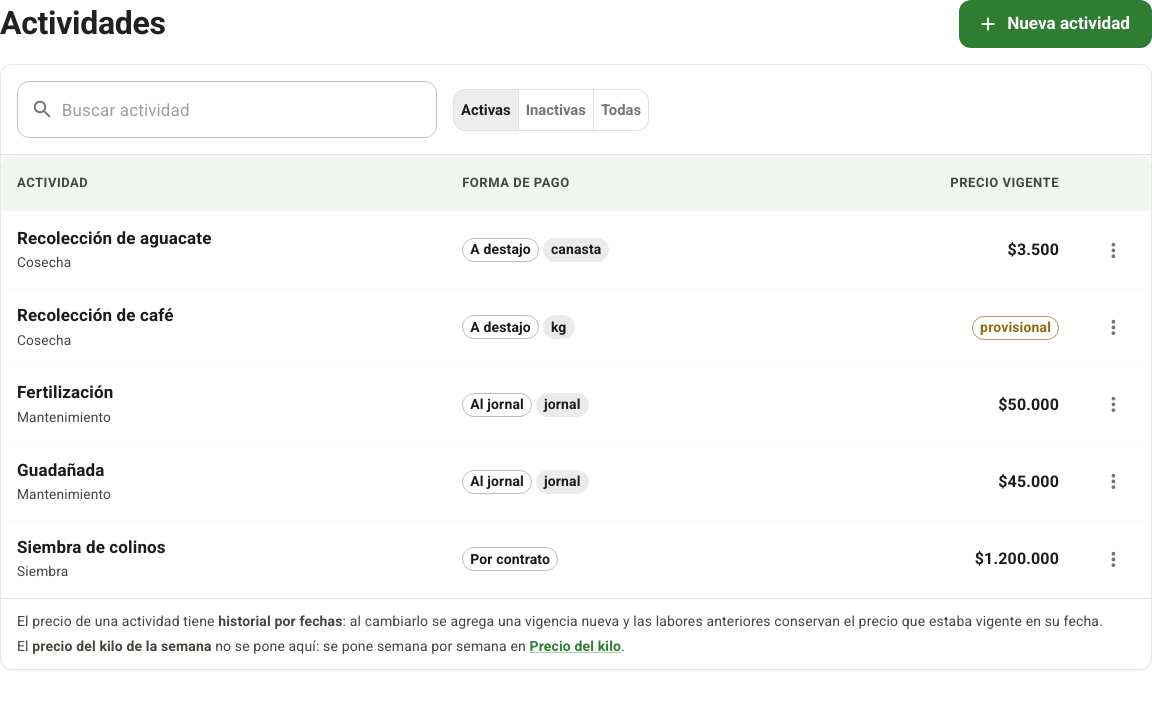
Test: the activities list › says why when the server refuses, and the note can be closed
Click the button named "Acciones de Recolección de café": coordinates (1113, 327) [1091, 305, 1135, 349]
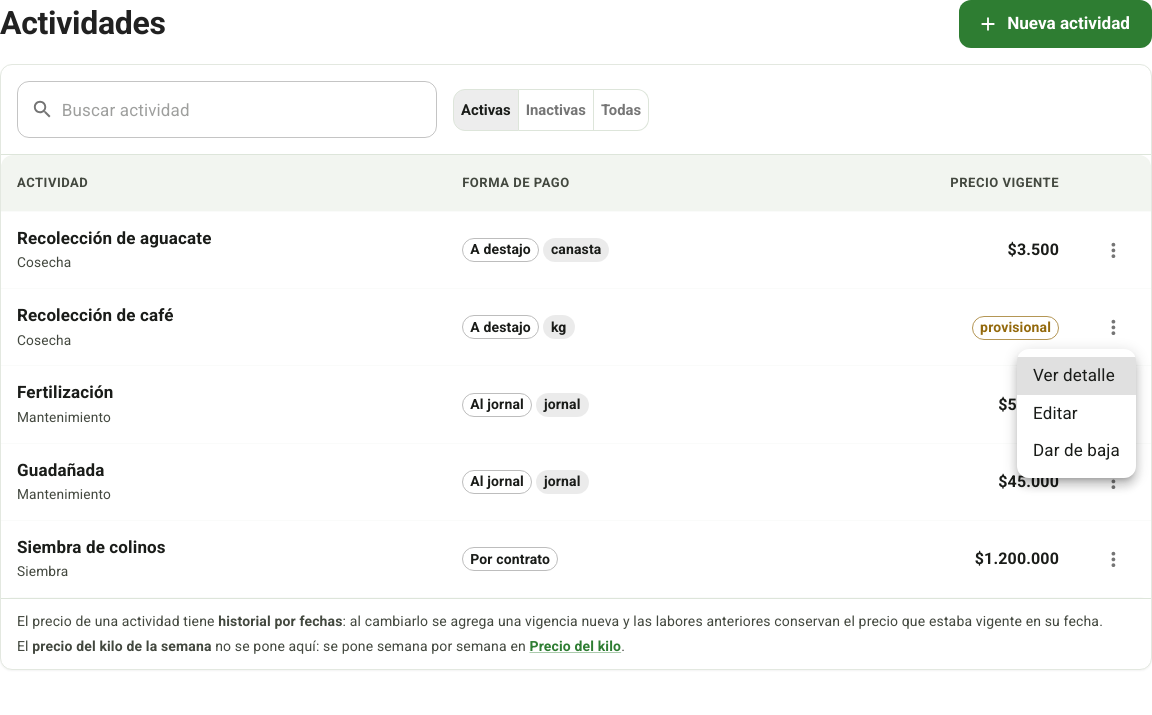
Click the menu item "Dar de baja": coordinates (1076, 450) [1033, 440, 1120, 460]
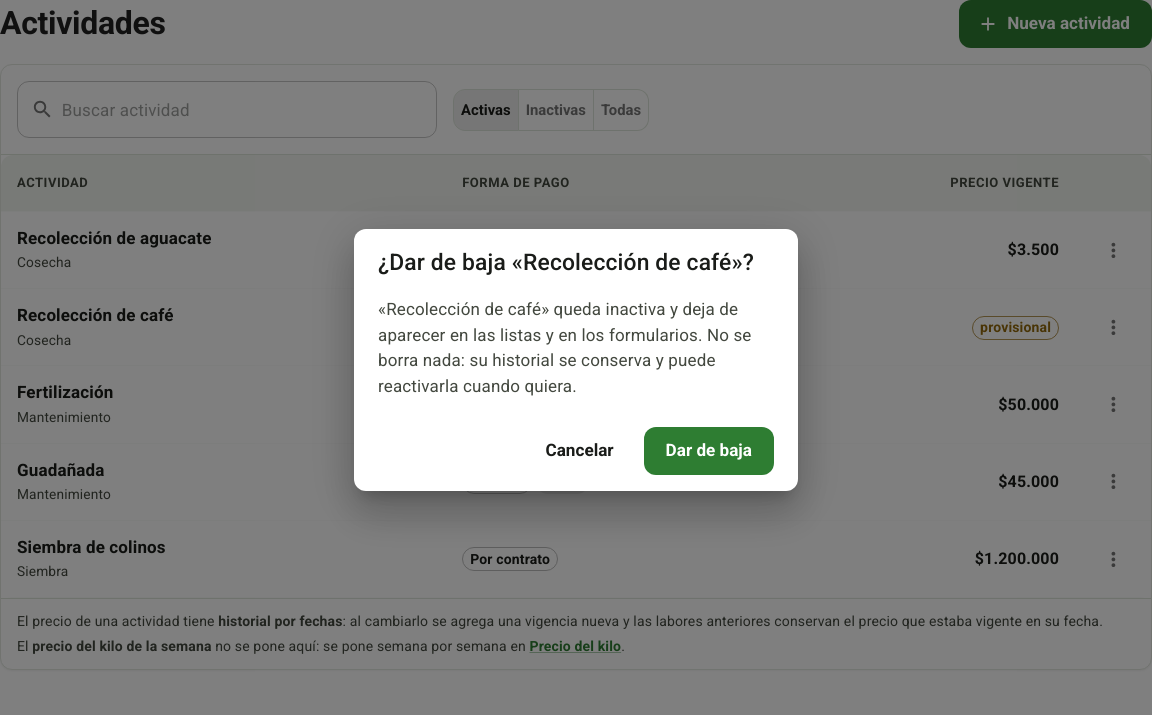
Click the button "Dar de baja": coordinates (709, 451) [644, 427, 774, 475]
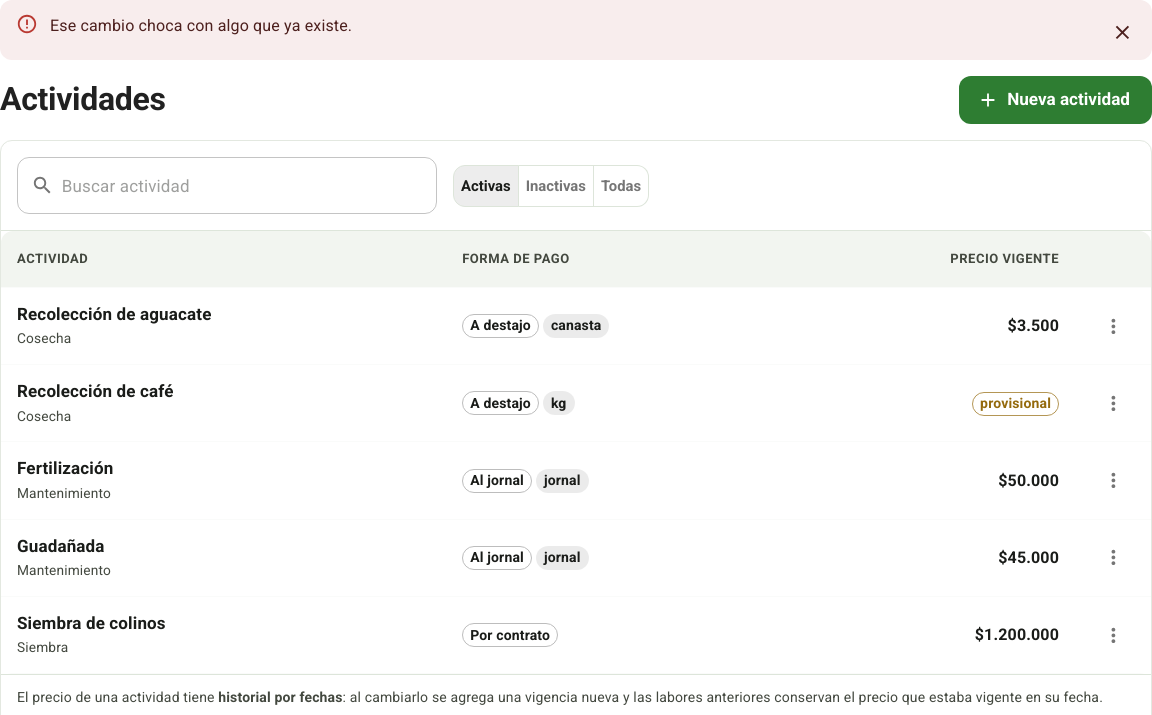
Check: the text "Recolección de café" is shown, box [17, 381, 174, 401]
Check: the dialog is gone
Click the button named "cerrar": coordinates (1122, 32) [1100, 10, 1144, 54]
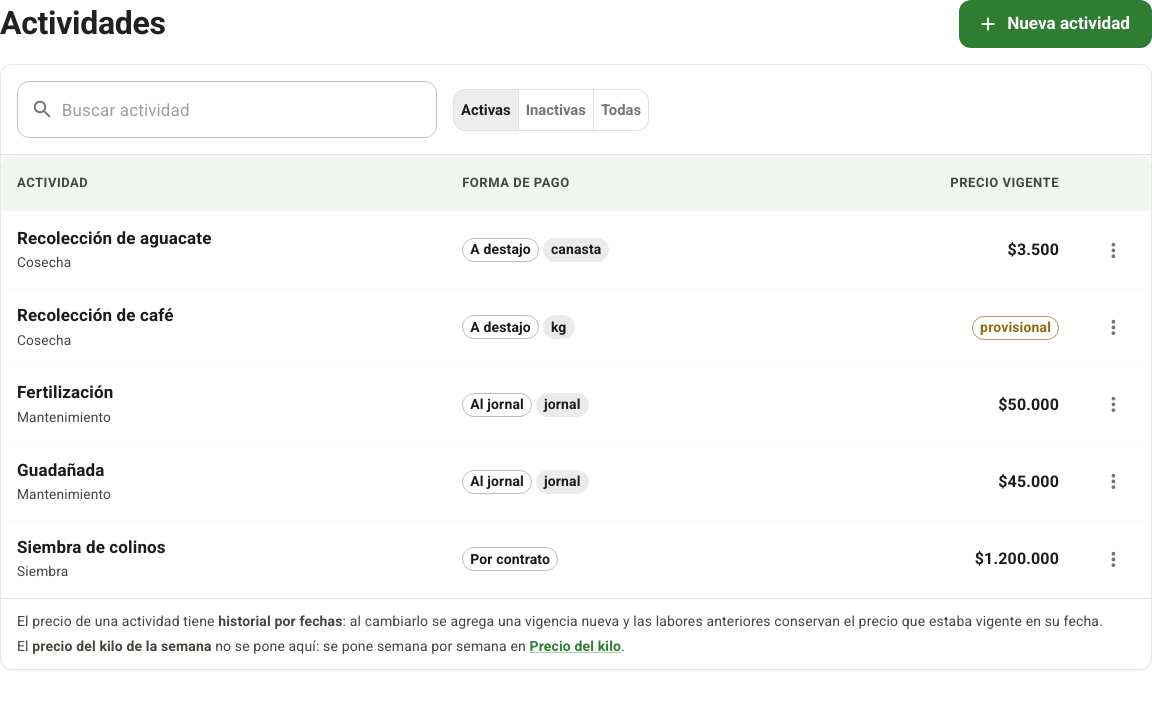
Check: the message "Ese cambio choca con algo que ya existe." is gone
